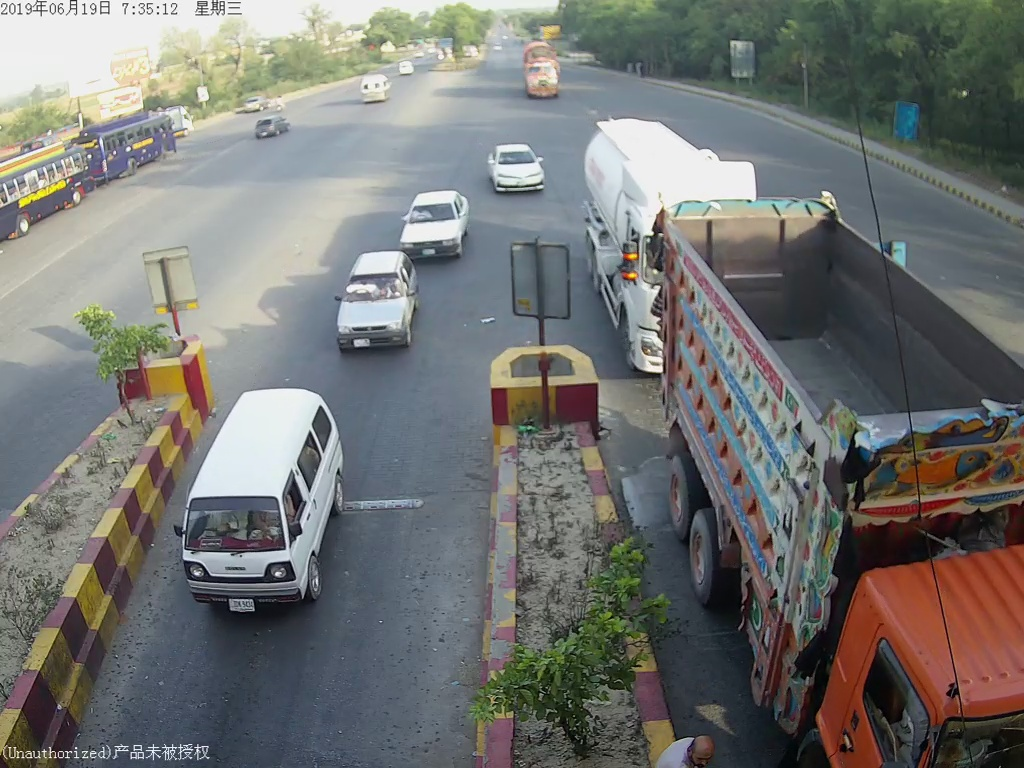Cat-1: (188, 383, 349, 622), (331, 251, 431, 369), (398, 195, 473, 254), (485, 144, 549, 193)
